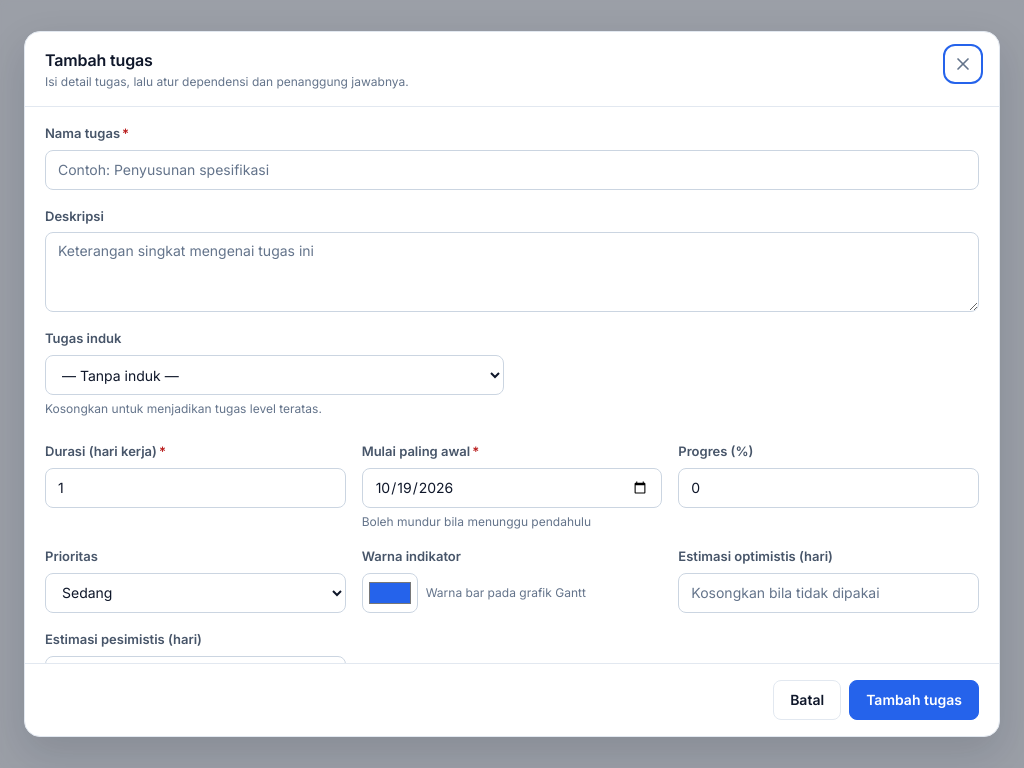
TaskDialog › menampilkan pesan validasi ketika durasi kosong
Step 1. Type "Riset dan wireframe" into the field labelled "Nama tugas*" → (512,170), box [45,150,979,190]
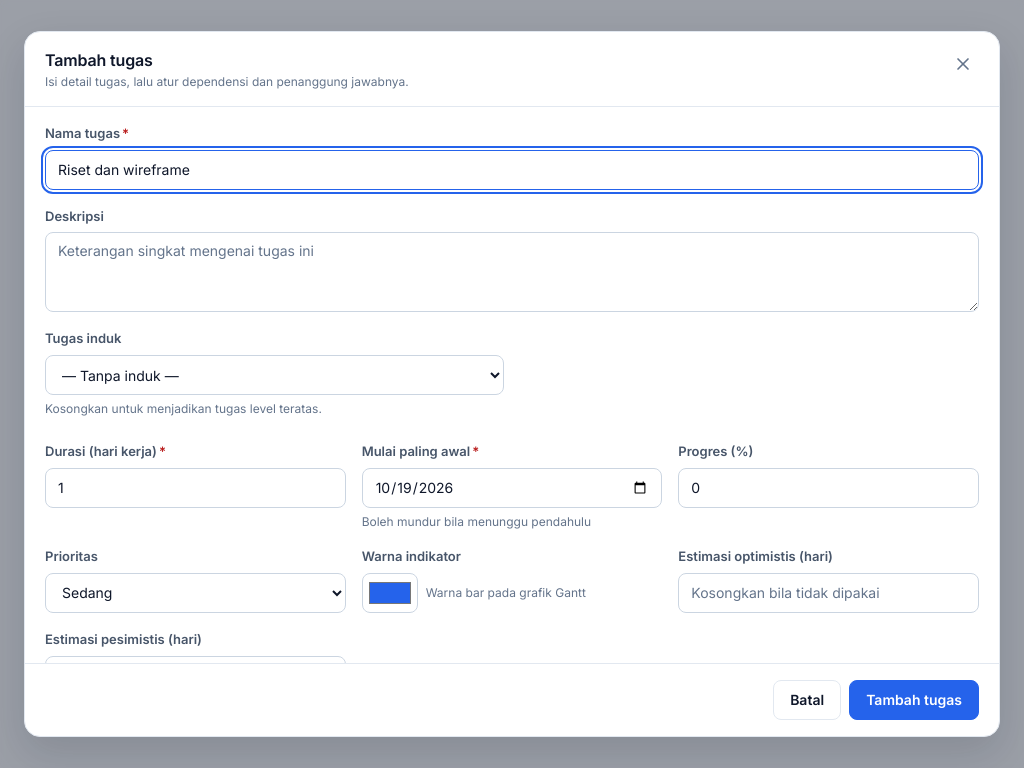
Step 2. Clear the number field labelled "Durasi (hari kerja)*" → (195,488), box [45,468,346,508]
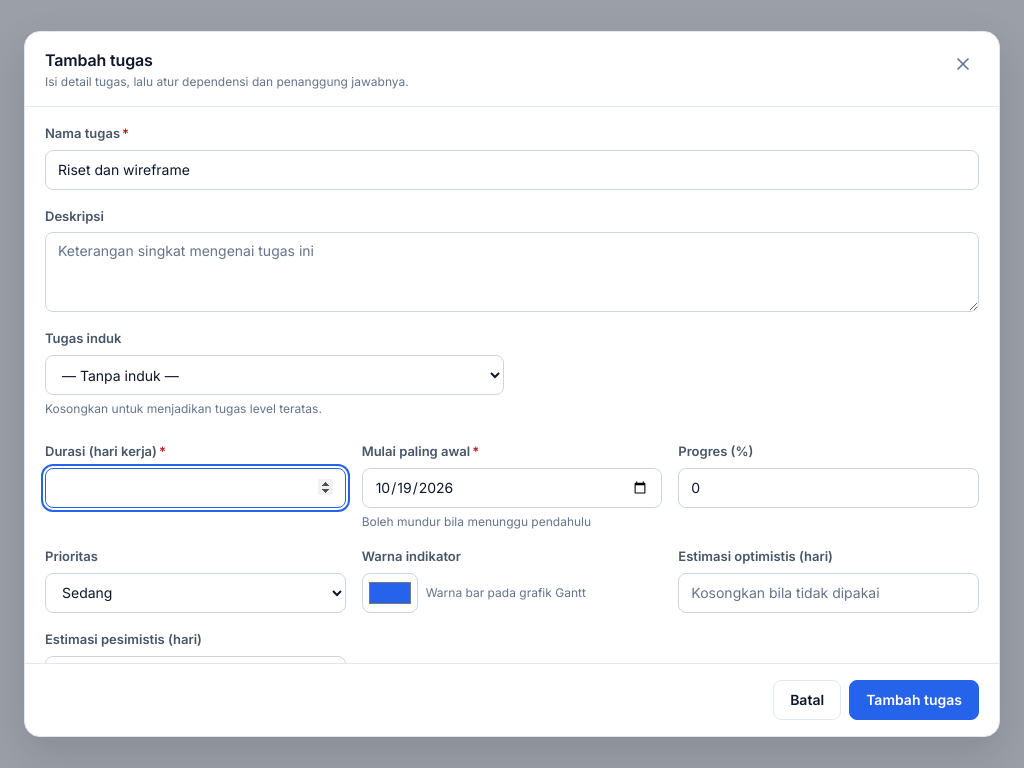
Step 3. Click the button "Tambah tugas" → (914,700), box [849,680,979,720]
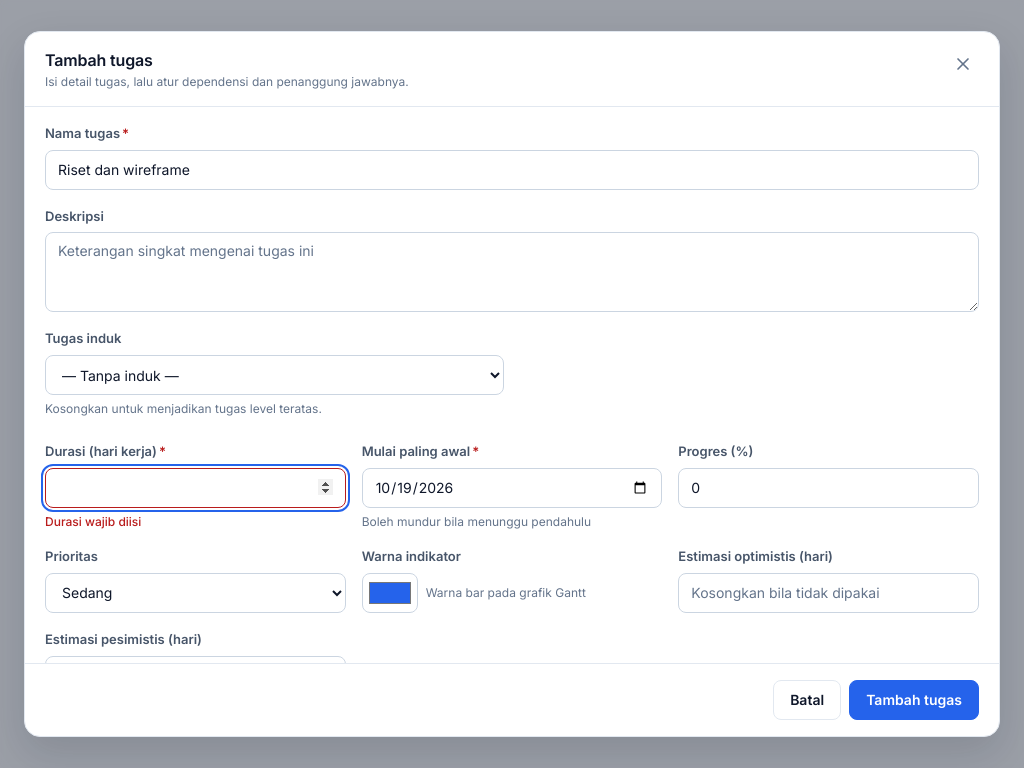
Result: the text "Durasi wajib diisi" is shown at [45,514,141,529]
